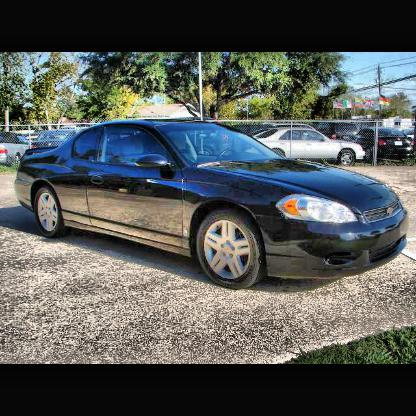Chevrolet Monte Carlo Coupe 2007: (11, 113, 412, 295)
